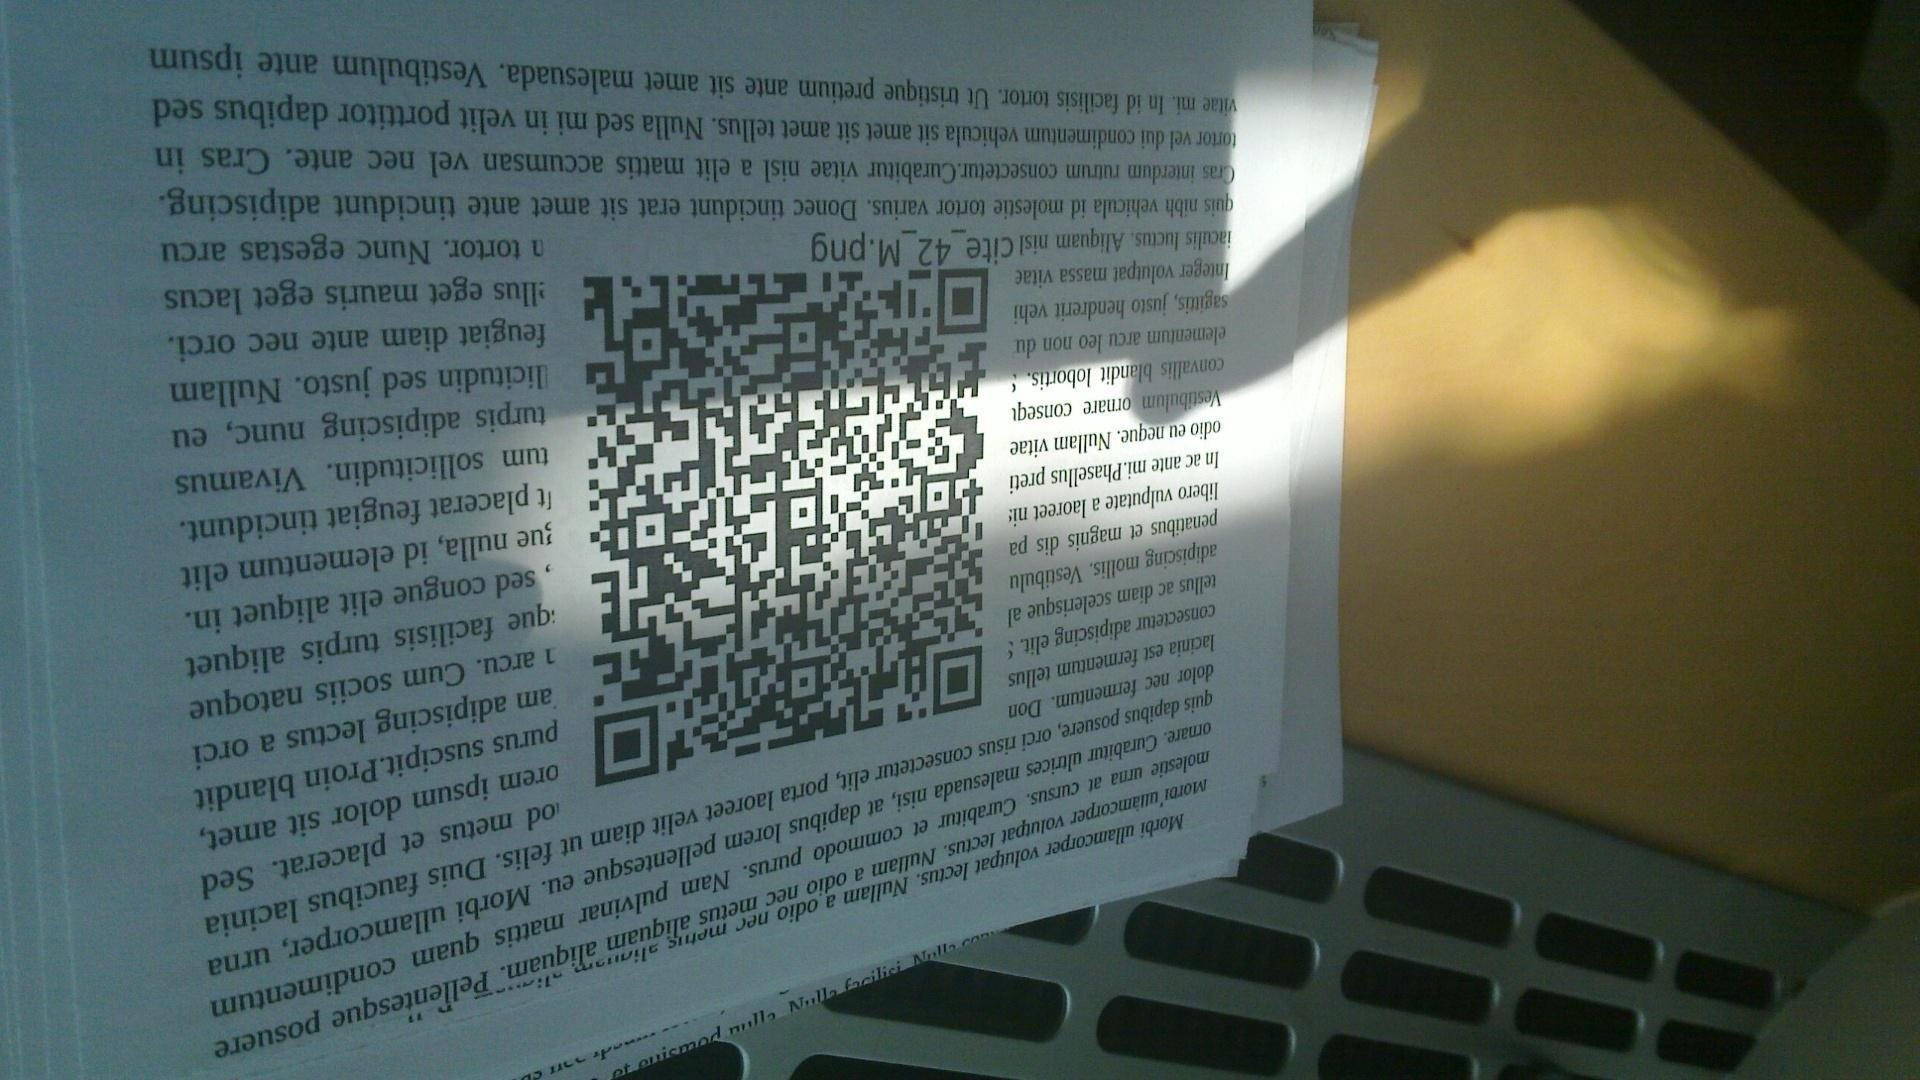Finder pattern: (585, 705, 667, 790), (932, 264, 992, 336), (928, 644, 986, 717)
